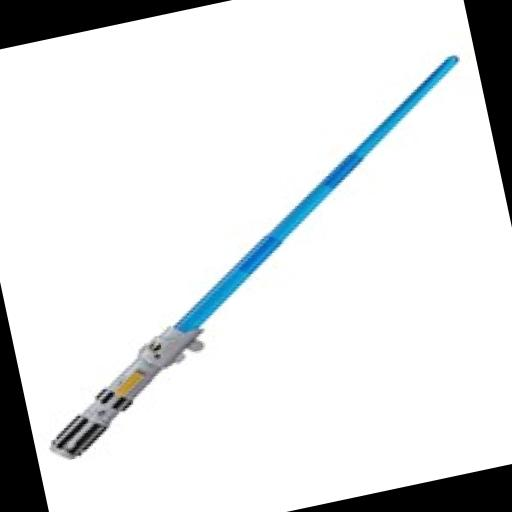lightsaber: (0, 51, 512, 466)
